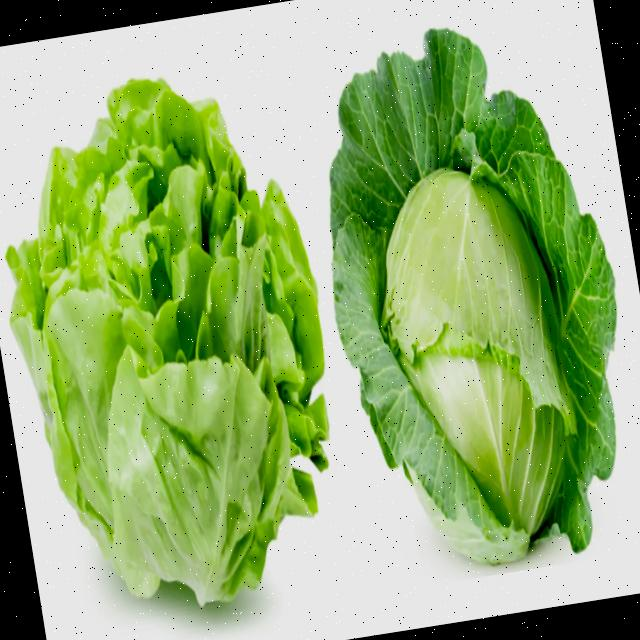cabbage: (278, 0, 640, 599)
